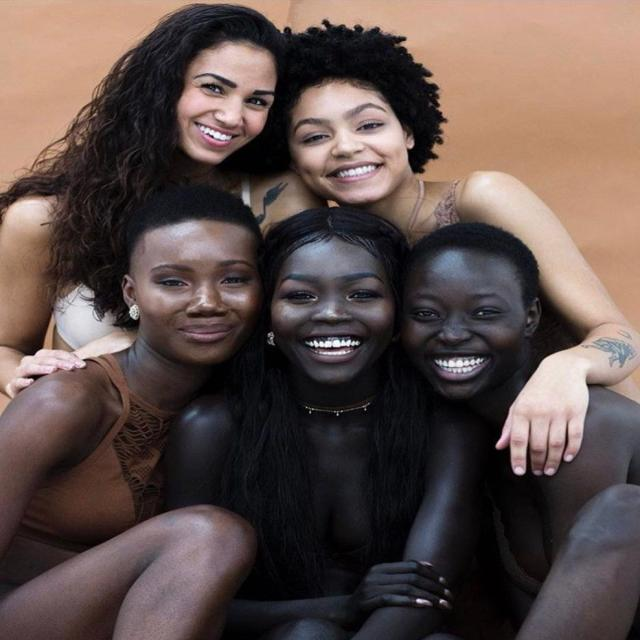sem_oculos: (110, 258, 269, 298), (406, 290, 551, 324), (180, 65, 290, 107), (274, 273, 391, 307), (294, 114, 399, 146)
